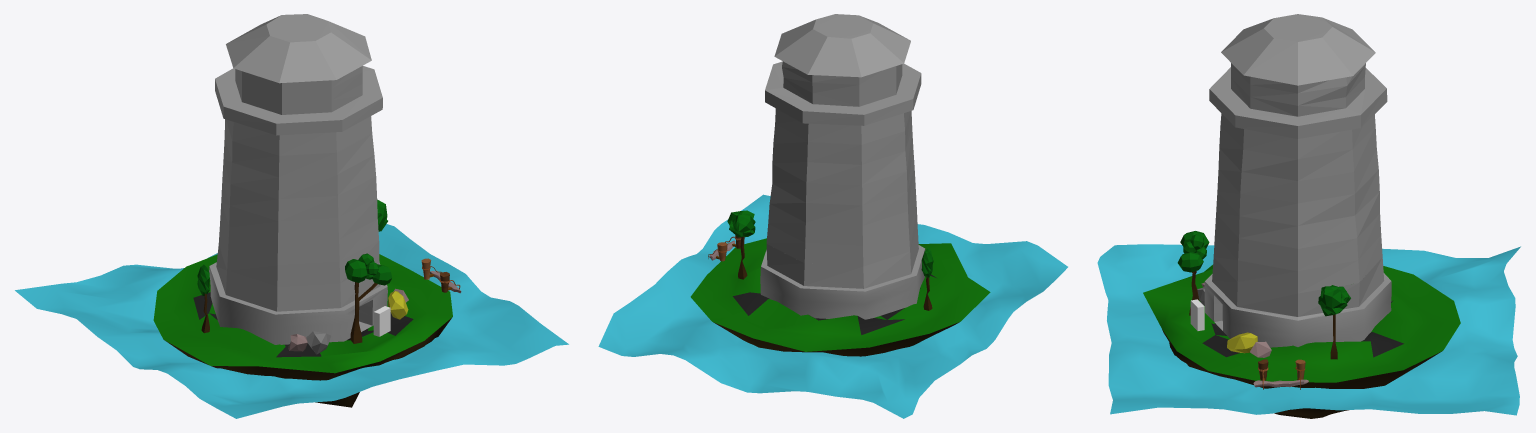
Rendered from lighthouse_project2.fbx.
3 renders of one model, left to right at view 1: azimuth 30°, elevation 25°; view 2: azimuth 150°, elevation 25°; view 3: azimuth 270°, elevation 25°, orthographic. The views are drawn at different scales.
Parts seen in each view (by area): view 1: Majakka01, Plane002, Land-cone; view 2: Majakka01, Plane002, Land-cone, Tree2_01; view 3: Majakka01, Plane002, Land-cone, Tree2_01, Rock_003, Characters, Tree3_06.
Part boxes in pixels (x1,y1,x2,y2): Majakka01: [209, 14, 387, 344]; Plane002: [15, 224, 568, 418]; Land-cone: [153, 254, 452, 407]; Majakka01: [760, 14, 925, 319]; Plane002: [598, 194, 1067, 418]; Land-cone: [690, 238, 990, 356]; Tree2_01: [727, 210, 755, 237]; Majakka01: [1204, 14, 1391, 347]; Plane002: [1097, 244, 1520, 415]; Land-cone: [1143, 265, 1460, 418]; Tree2_01: [1318, 285, 1350, 316]; Rock_003: [1227, 332, 1257, 353]; Characters: [1190, 299, 1204, 330]; Tree3_06: [1177, 252, 1203, 272].
Size of the model in its own units: 112 by 110 by 114.
